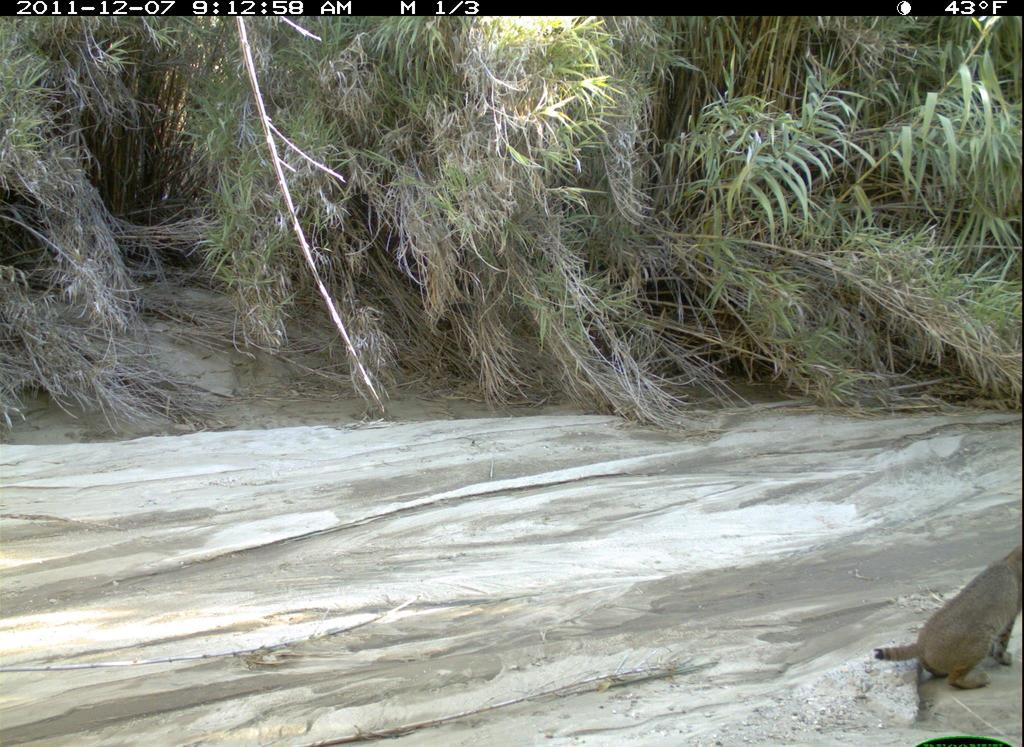bobcat: (865, 543, 1023, 708)
